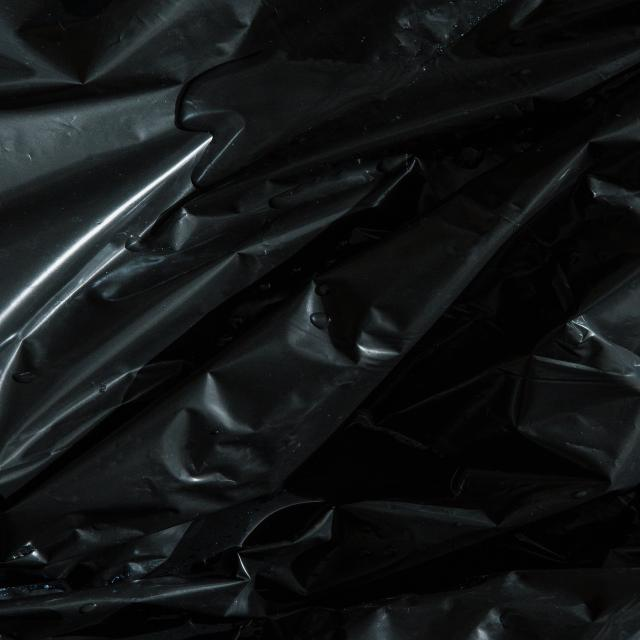trash: (135, 157, 519, 520)
